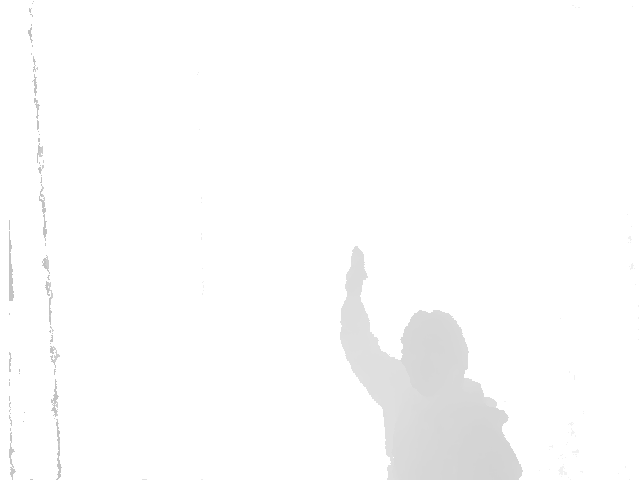hand: (341, 242, 372, 298)
head: (398, 302, 471, 397)
person: (338, 240, 525, 480)
